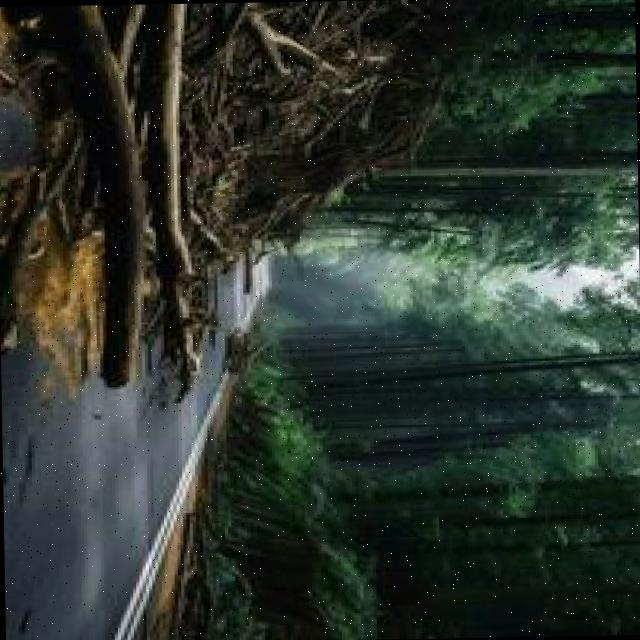road collapse: (7, 0, 514, 639)
